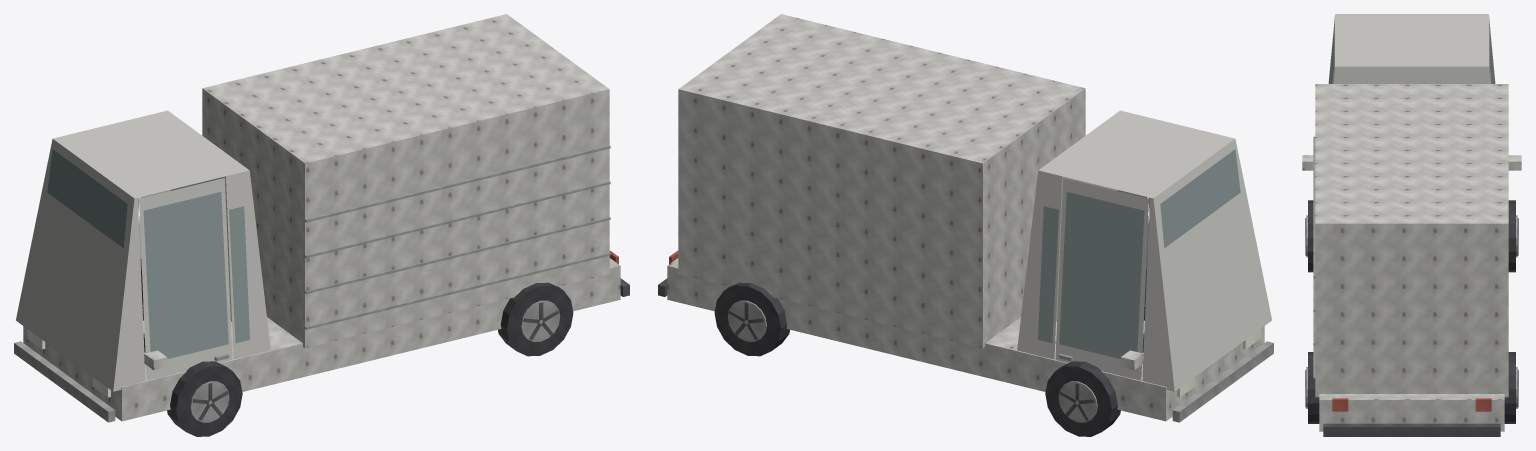
The model's file is vehicle_delivery.glb.
3 views of the same model, side by side, from view 1: azimuth 30°, elevation 25°; view 2: azimuth 150°, elevation 25°; view 3: azimuth 270°, elevation 25° (orthographic). The views are drawn at different scales.
Visible parts, largest first — view 1: body_panel.007, door_mirror.015, hub.029, hub.031; view 2: body_panel.007, door_mirror.014, hub.028, hub.030; view 3: body_panel.007, hub.030, hub.031, hub.028, hub.029, door_mirror.014, door_mirror.015.
Boxes of the visible parts, x1=… form: body_panel.007: x1=14, y1=14, x2=629, y2=422; door_mirror.015: x1=139, y1=178, x2=232, y2=380; hub.029: x1=167, y1=361, x2=242, y2=436; hub.031: x1=498, y1=282, x2=573, y2=356; body_panel.007: x1=658, y1=14, x2=1273, y2=422; door_mirror.014: x1=1055, y1=178, x2=1148, y2=380; hub.028: x1=1045, y1=361, x2=1120, y2=436; hub.030: x1=714, y1=282, x2=789, y2=356; body_panel.007: x1=1313, y1=14, x2=1508, y2=436; hub.030: x1=1504, y1=352, x2=1518, y2=423; hub.031: x1=1305, y1=352, x2=1319, y2=423; hub.028: x1=1508, y1=200, x2=1518, y2=272; hub.029: x1=1305, y1=200, x2=1313, y2=272; door_mirror.014: x1=1489, y1=20, x2=1521, y2=170; door_mirror.015: x1=1302, y1=20, x2=1334, y2=170.
Size of the model in its own units: 6.11 by 2.75 by 2.37.
Materials: 7 (7 with a texture image).
